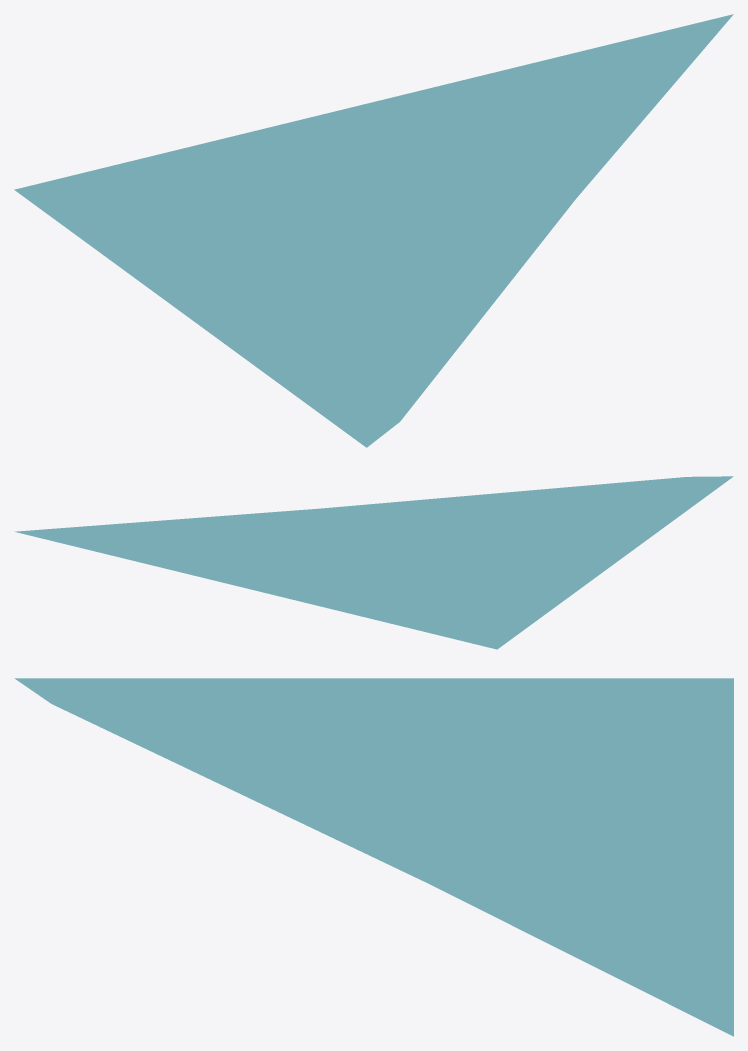
3 renders of one model, top to bottom at view 1: azimuth 30°, elevation 25°; view 2: azimuth 150°, elevation 25°; view 3: azimuth 270°, elevation 25°, orthographic. The views are drawn at different scales.
Visible parts, largest first — view 1: city; view 2: city; view 3: city.
Boxes of the visible parts, <box> form: city: <box>14,14,733,447</box>; city: <box>14,476,733,649</box>; city: <box>14,678,733,1036</box>.
Size of the model in its own units: 59.89 by 0 by 50.81.
